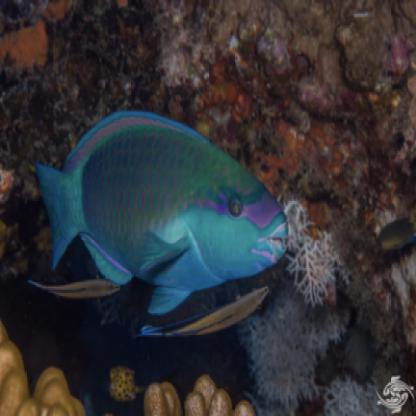parrot: (33, 103, 296, 318)
